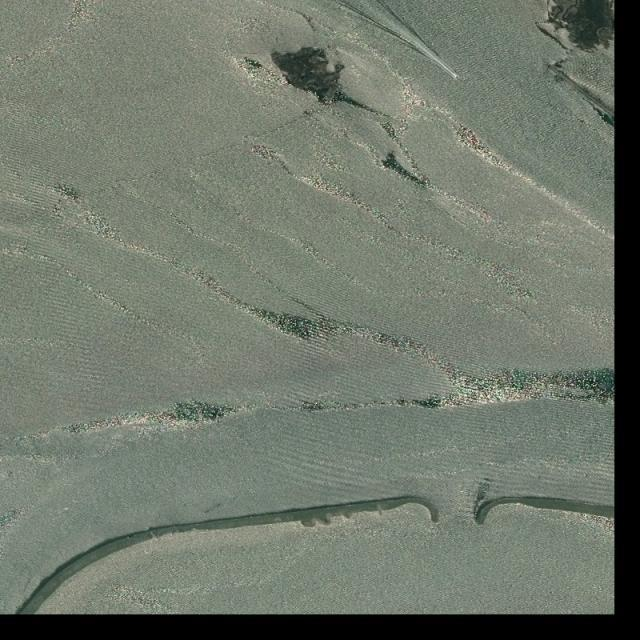ship: (456, 75, 462, 82)
